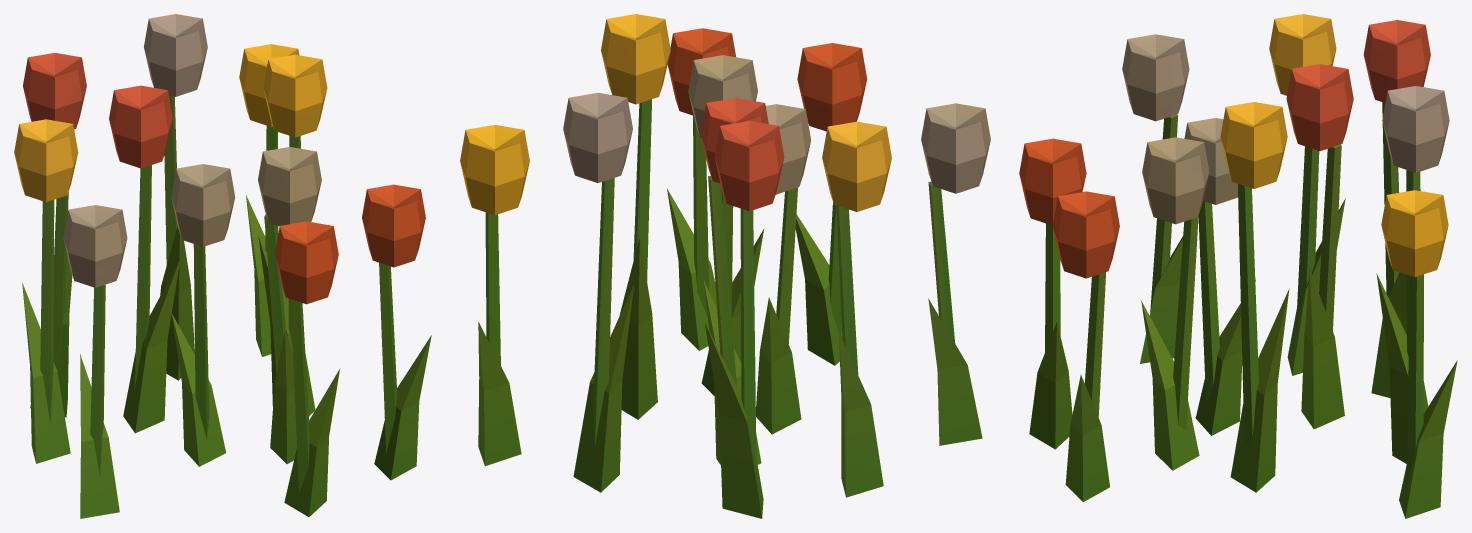
File: Flower_Tulips_01.fbx
3 views of the same model, side by side, from view 1: azimuth 30°, elevation 25°; view 2: azimuth 150°, elevation 25°; view 3: azimuth 270°, elevation 25° (orthographic). The views are drawn at different scales.
Visible parts, largest first — view 1: Flower_Tulips_01; view 2: Flower_Tulips_01; view 3: Flower_Tulips_01.
Boxes of the visible parts, <box> form: Flower_Tulips_01: <box>14,14,431,518</box>; Flower_Tulips_01: <box>460,14,990,518</box>; Flower_Tulips_01: <box>1019,14,1457,518</box>.
Bounding box in the file's own units: 0.5035 × 0.4715 × 0.5078.
